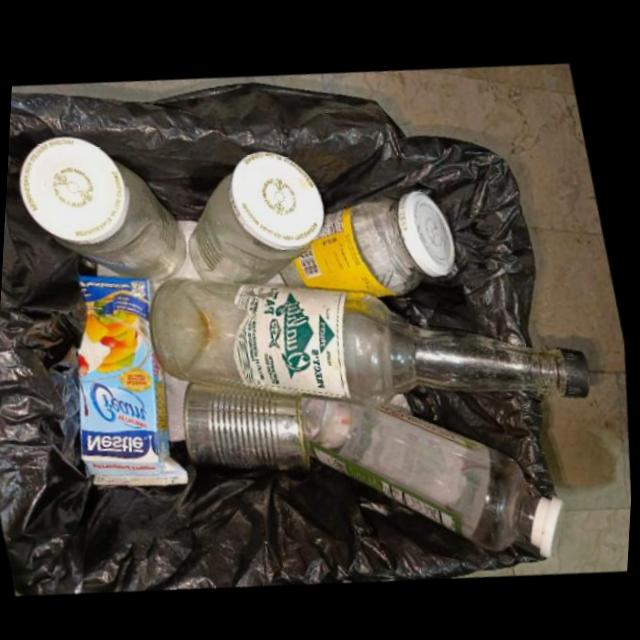chai_thuy_tinh: (153, 277, 597, 402), (306, 394, 570, 551), (28, 135, 196, 280), (289, 185, 464, 292), (197, 147, 336, 281)
nhom: (188, 379, 313, 466)
vo_hop_sua: (83, 273, 192, 484)
